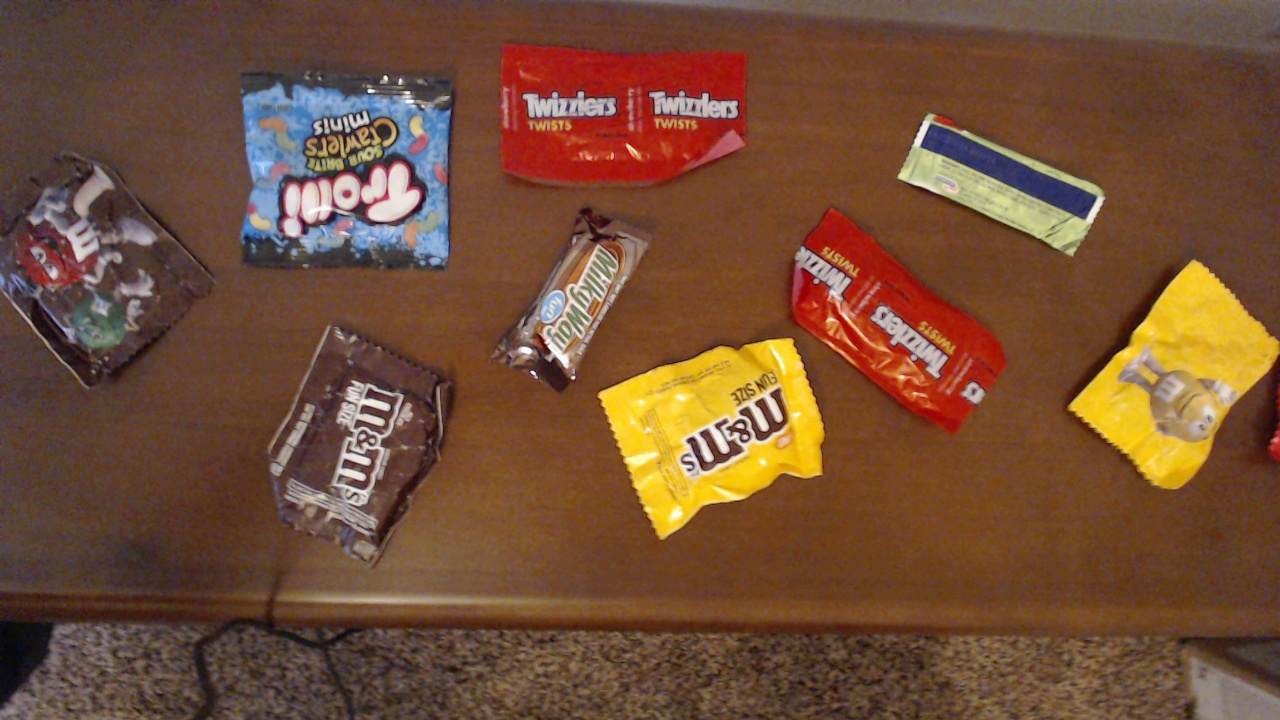MMs_peanut: (263, 289, 463, 596), (0, 143, 232, 393)
MMs_regular: (592, 334, 851, 554), (1061, 256, 1276, 513)
airheads: (897, 89, 1125, 270)
gummy_worms: (226, 51, 474, 273)
milky_way: (500, 206, 654, 395)
twizzlers: (785, 214, 1036, 520), (495, 37, 784, 194)
